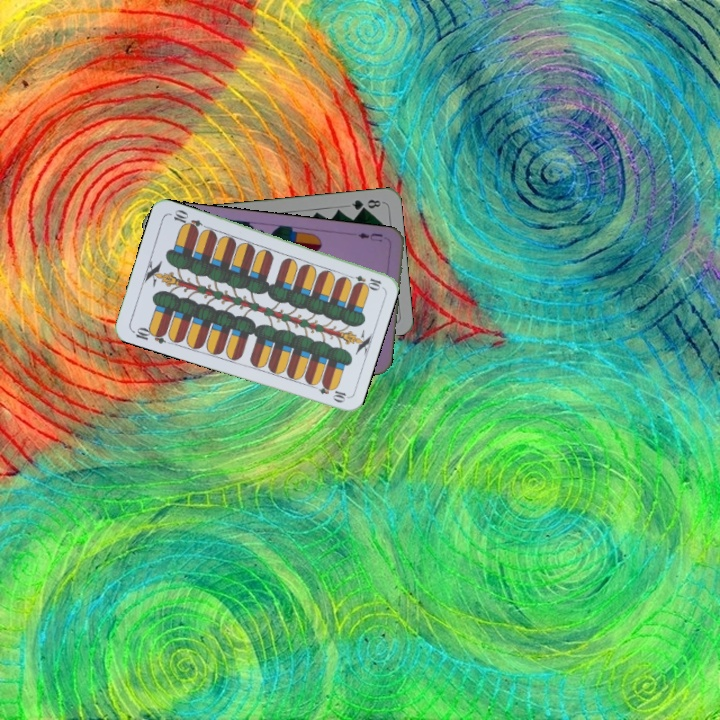E10: (128, 323, 169, 346), (343, 271, 384, 291)
EU: (354, 229, 385, 244)
G8: (348, 195, 385, 213)
